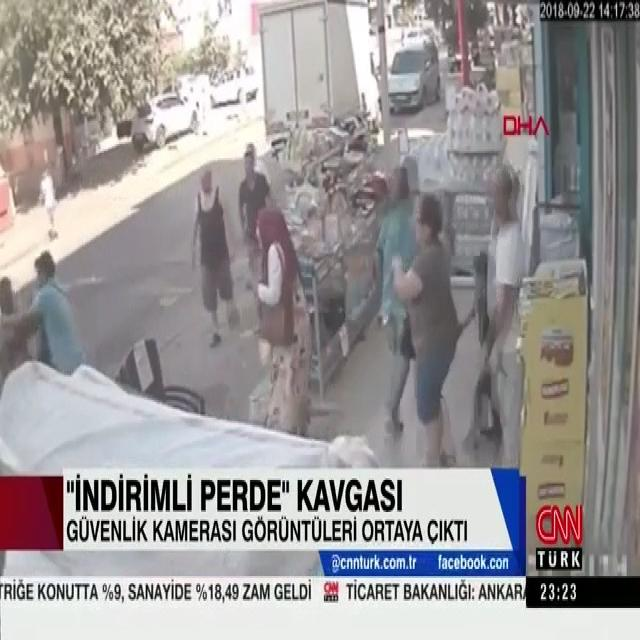fight: (0, 251, 76, 377)
